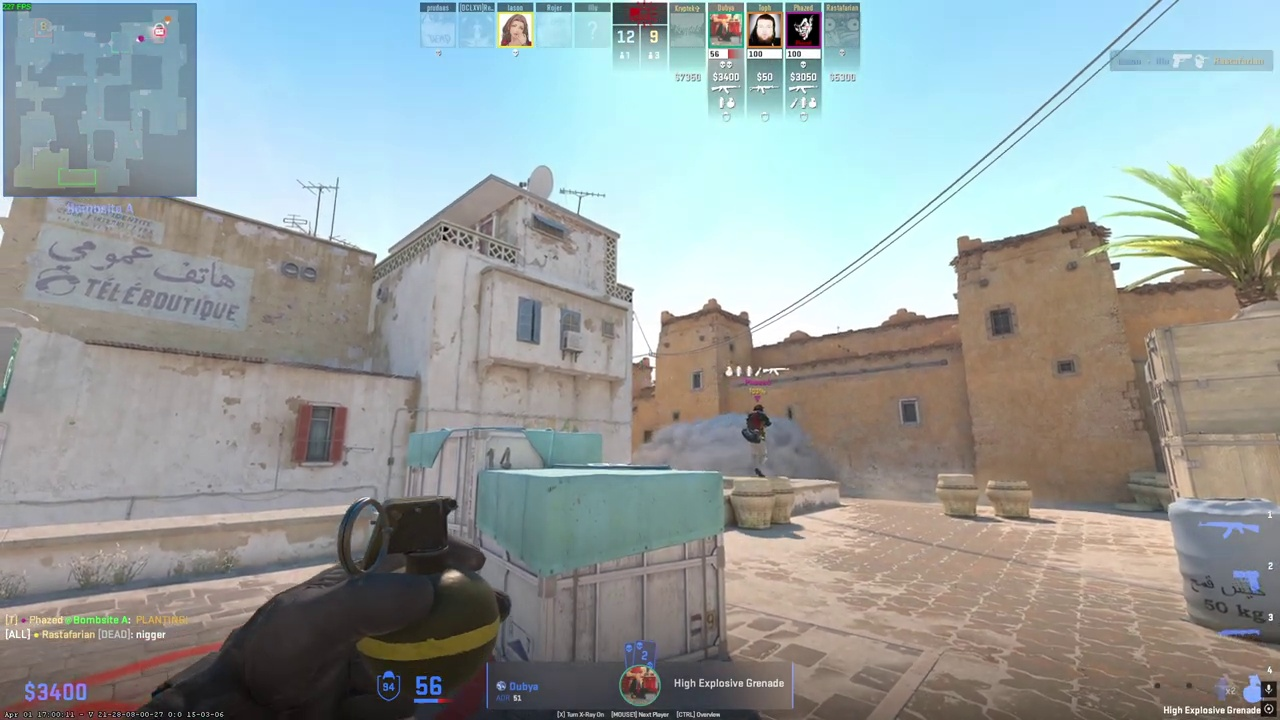Terrorist: (745, 403, 769, 477)
